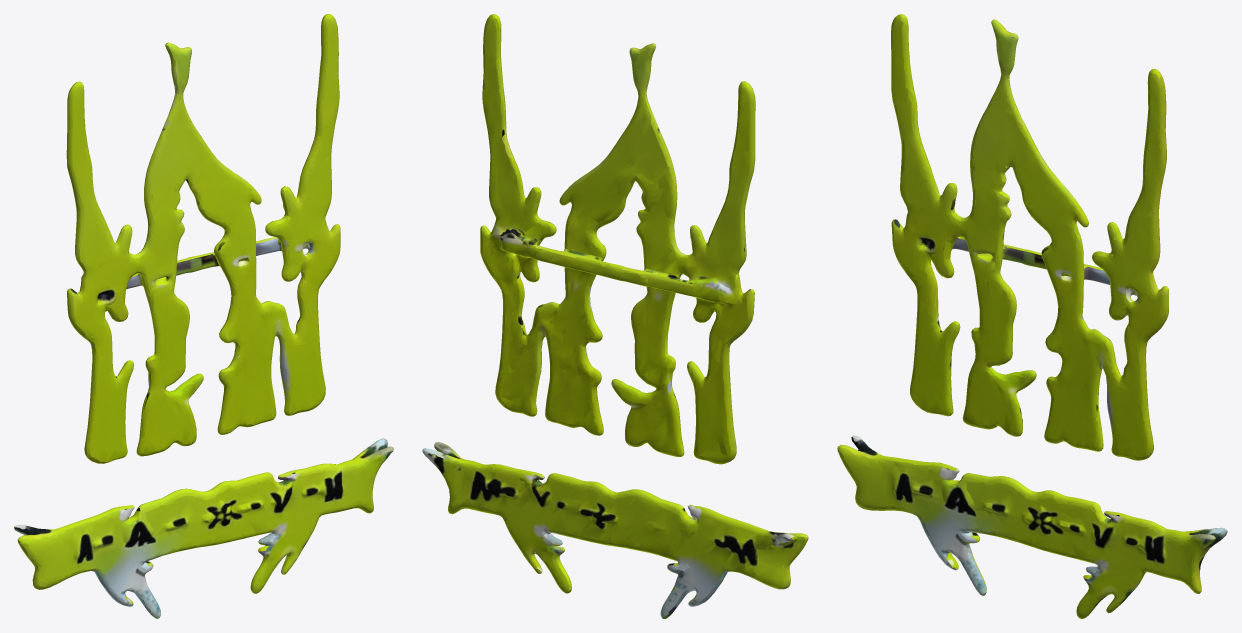
The picture shows the model from 3 angles, left to right: view 1: azimuth 30°, elevation 25°; view 2: azimuth 150°, elevation 25°; view 3: azimuth 330°, elevation 25°; orthographic projection.
Visible parts, largest first — view 1: geometry_0; view 2: geometry_0; view 3: geometry_0.
Part boxes in pixels (left/top/right/bottom): geometry_0: left=14, top=14, right=393, bottom=618; geometry_0: left=422, top=14, right=808, bottom=618; geometry_0: left=837, top=14, right=1227, bottom=618.
Size of the model in its own units: 1.37 by 1.99 by 0.0849.
Materials: 1 (1 with a texture image).
